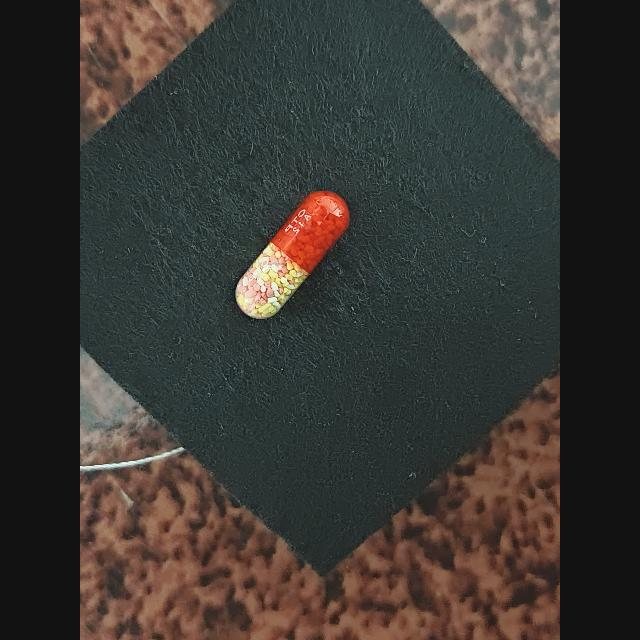Intact Capsule: (235, 191, 349, 319)
